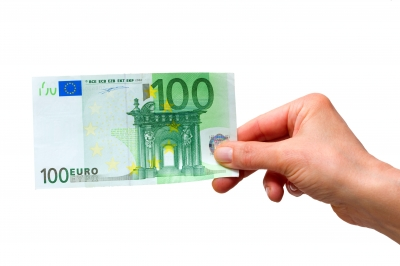billete: (30, 71, 241, 191)
